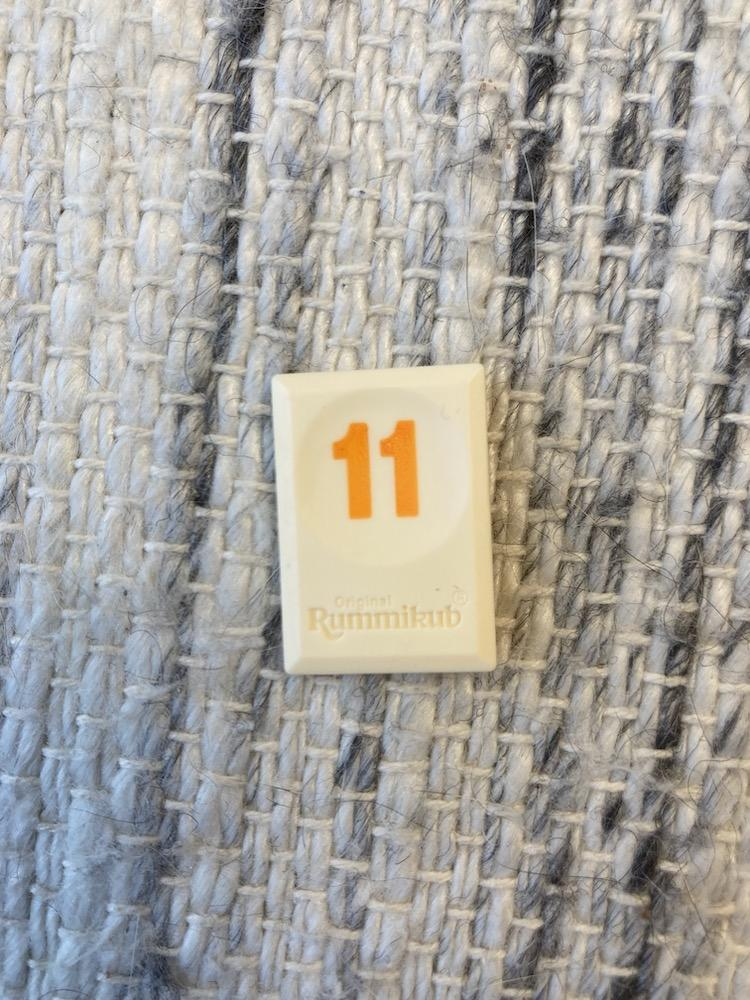orange_11: (273, 363, 496, 674)
